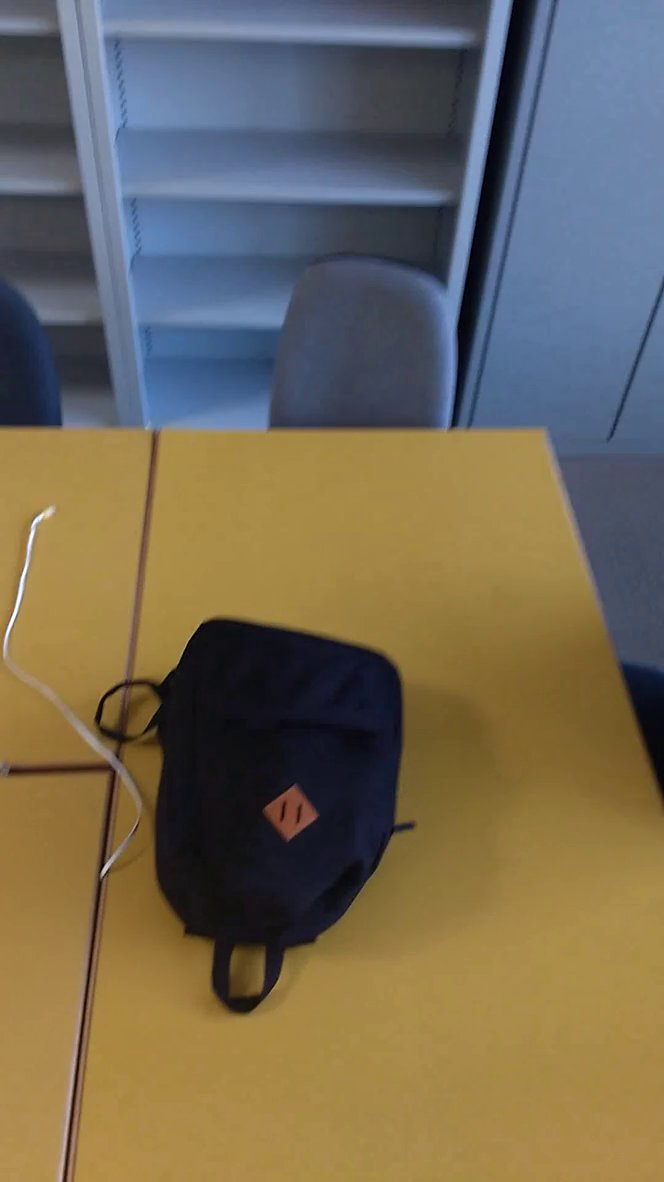bag: (89, 614, 435, 1022)
chair: (263, 239, 475, 458)
